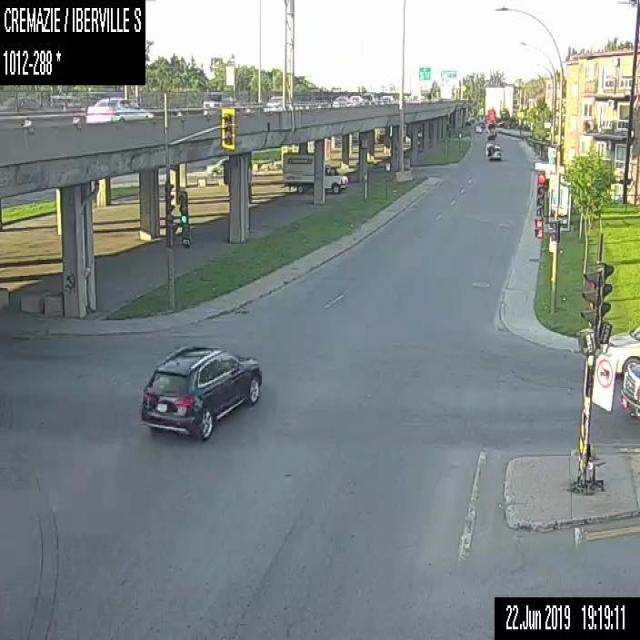vehicle: (139, 344, 262, 439), (281, 150, 348, 192), (602, 322, 639, 380), (85, 95, 152, 121), (620, 358, 639, 418), (264, 93, 296, 110), (202, 90, 235, 105), (1, 95, 43, 106), (206, 156, 228, 175), (484, 141, 501, 160), (332, 94, 351, 107), (439, 84, 451, 100), (362, 91, 376, 104), (348, 94, 364, 105), (380, 94, 393, 103), (474, 124, 481, 132), (496, 120, 505, 126), (478, 120, 484, 128)
